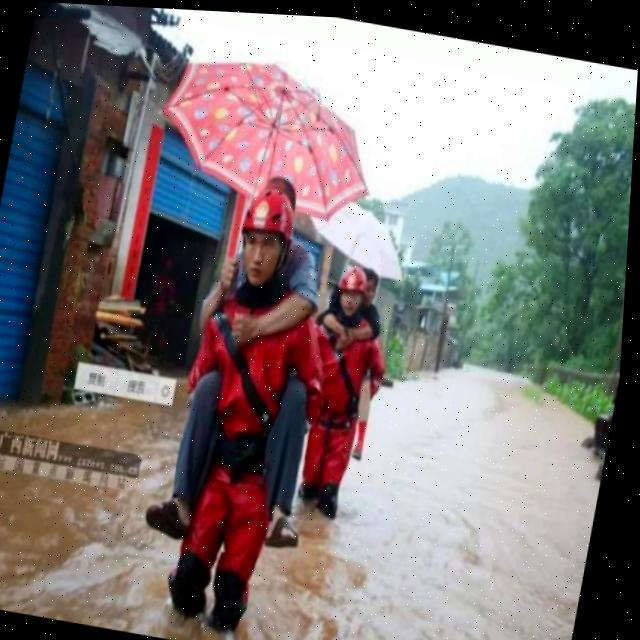civilian: (138, 152, 370, 572), (291, 234, 412, 463)
rescuer: (134, 182, 345, 640), (267, 232, 399, 562)
